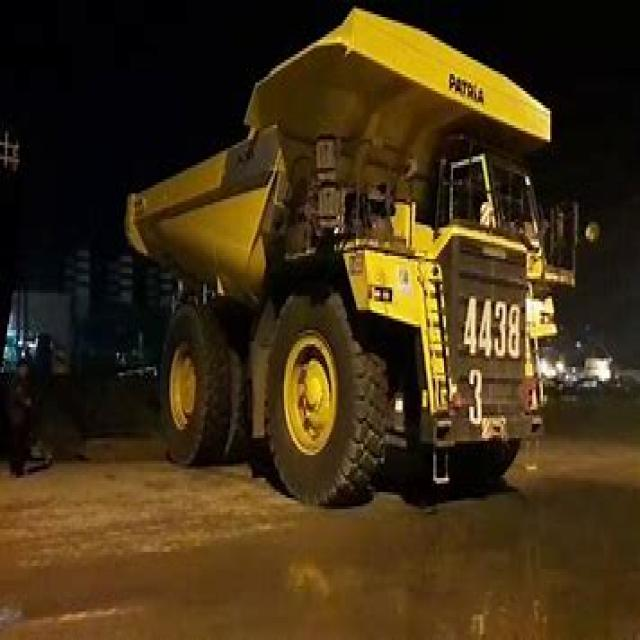dump_truck: (108, 6, 579, 509)
